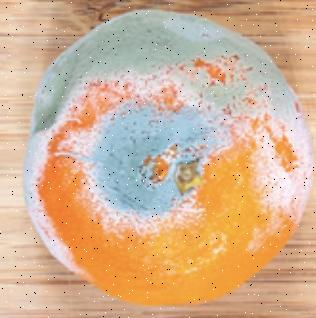Orange Rotten: (20, 5, 316, 318)
